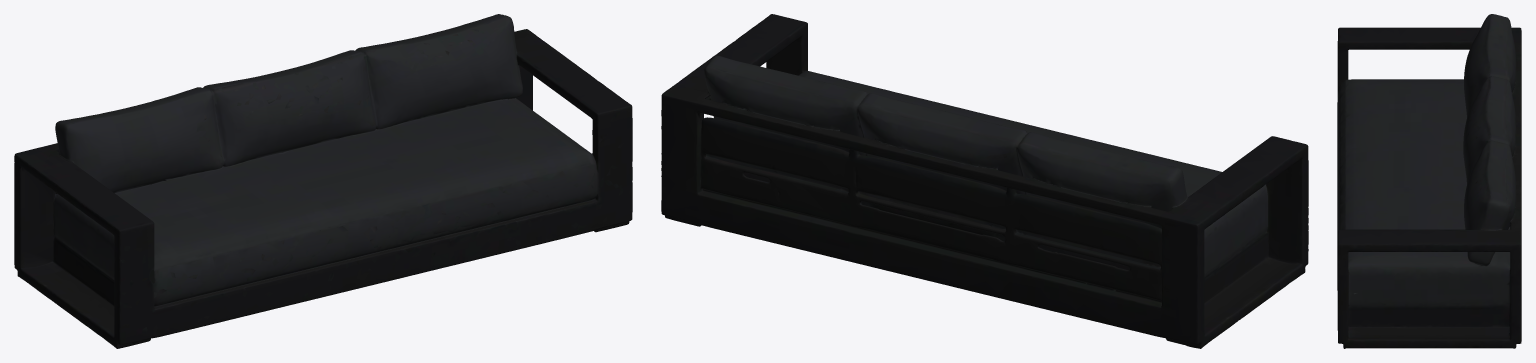
Rendered from fm_sofa_grey.glb.
The picture shows the model from 3 angles, left to right: view 1: azimuth 30°, elevation 25°; view 2: azimuth 150°, elevation 25°; view 3: azimuth 270°, elevation 25°; orthographic projection. The views are drawn at different scales.
Parts seen in each view (by area): view 1: geometry_0; view 2: geometry_0; view 3: geometry_0.
Part boxes in pixels (box(x1,y1,x2,y2)): geometry_0: box(14, 14, 632, 348); geometry_0: box(661, 14, 1308, 348); geometry_0: box(1337, 14, 1521, 348).
Size of the model in its own units: 1 by 0.2889 by 0.3599.
1 material, 1 textured.
